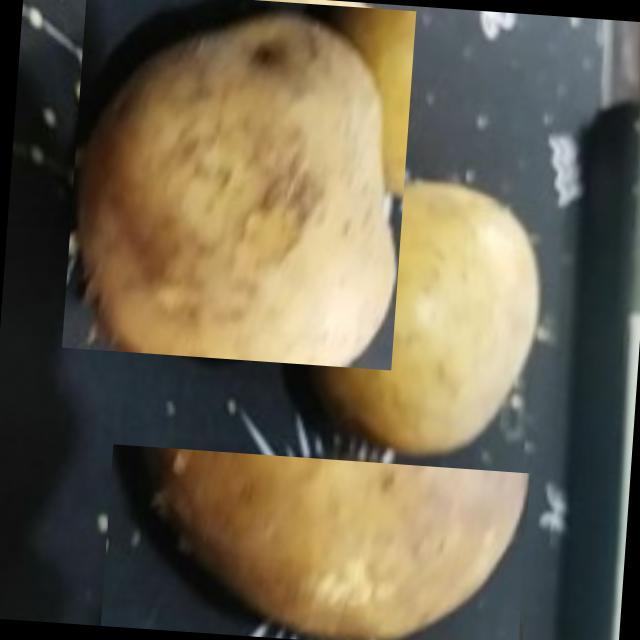Damaged potato: (60, 0, 414, 370)
Potato: (99, 443, 529, 640), (308, 169, 556, 469)
